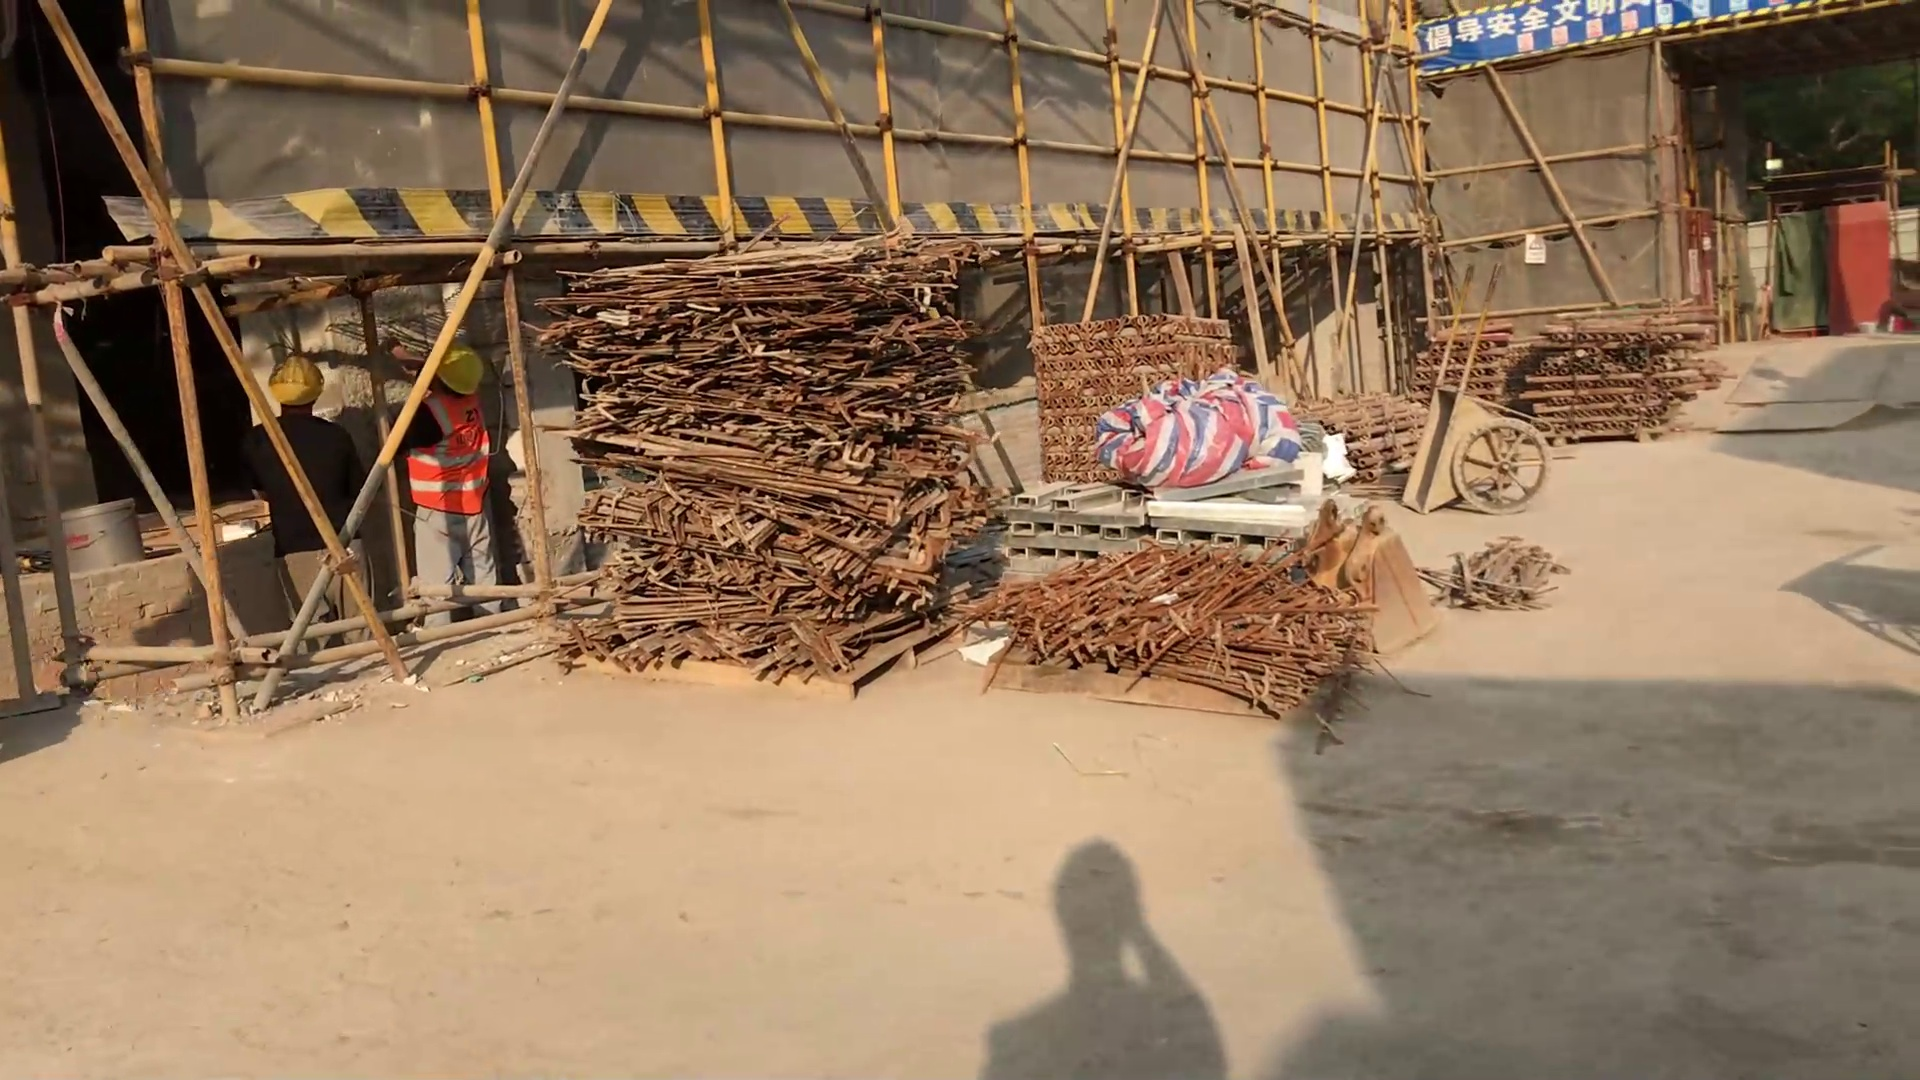handcart: (1396, 259, 1557, 520)
helmet: (267, 352, 326, 413), (430, 336, 485, 398)
person: (238, 353, 372, 662), (375, 323, 499, 633)
scaffold: (1029, 315, 1234, 483), (1529, 316, 1711, 430), (1299, 386, 1425, 484), (1413, 334, 1536, 401)
slogan: (1422, 1, 1786, 62), (1525, 231, 1547, 267)
vest: (404, 391, 492, 517)
